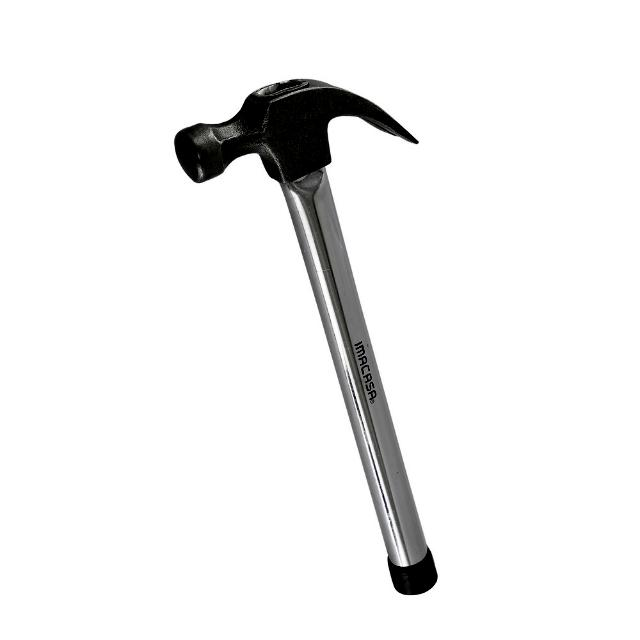hammer: (166, 72, 444, 600)
